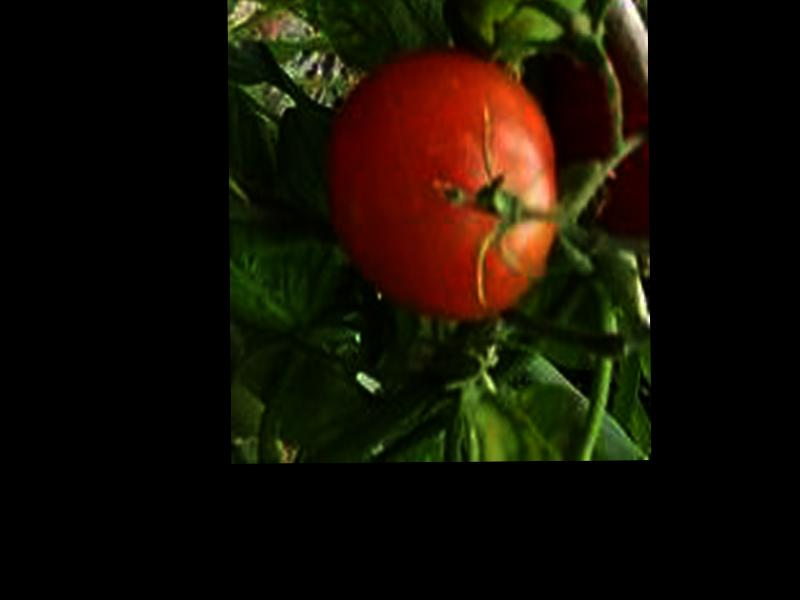Tomato: (332, 52, 560, 319)
